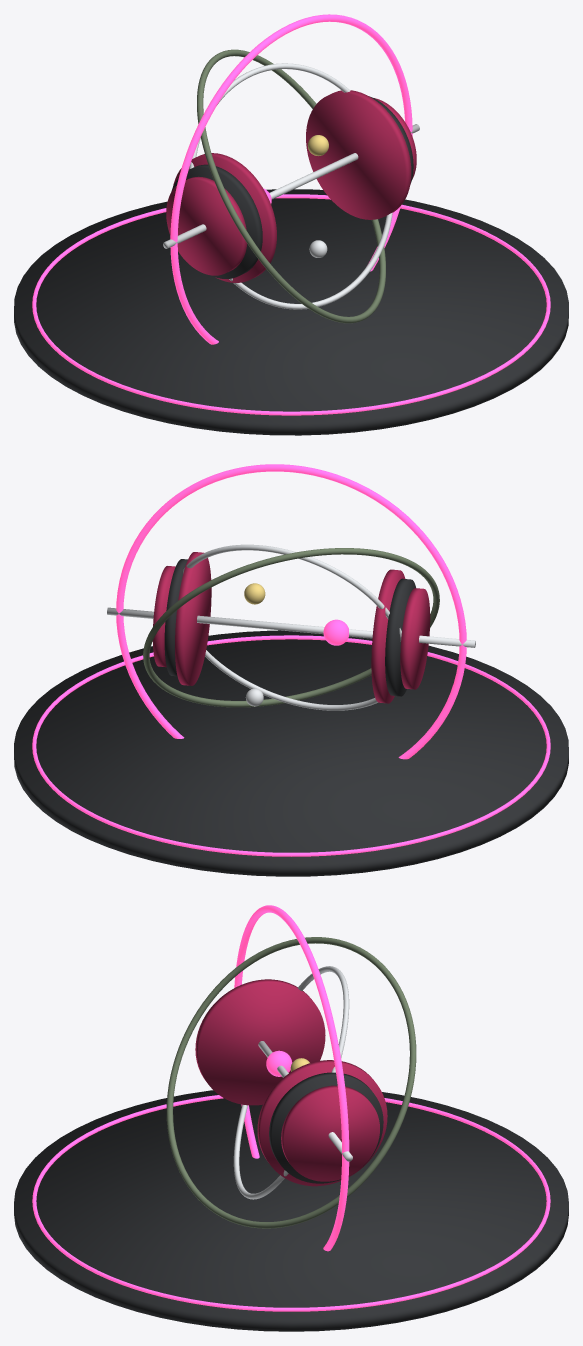
File: hip_thrust_3d_telemetry.glb
The picture shows the model from 3 angles, top to bottom: view 1: azimuth 30°, elevation 25°; view 2: azimuth 150°, elevation 25°; view 3: azimuth 270°, elevation 25°; orthographic projection.
Visible parts, largest first — view 1: Telemetry_Platform, Calibrated_Plate_4, Calibrated_Plate_1, Platform_Caliper_Ring, Vector01_Horizontal_HipThrust_Ring, Vector02_Axial_Lengthened_Ring, Calibrated_Plate_3, Vector03_ScapularPlane_30Deg_Ring, Calibrated_Plate_2, Olympic_Barbell_20kg; view 2: Telemetry_Platform, Vector01_Horizontal_HipThrust_Ring, Platform_Caliper_Ring, Vector02_Axial_Lengthened_Ring, Calibrated_Plate_4, Vector03_ScapularPlane_30Deg_Ring, Calibrated_Plate_1, Olympic_Barbell_20kg, Calibrated_Plate_3, Calibrated_Plate_2, Calibrated_Plate_5, Calibrated_Plate_6 (+1 smaller); view 3: Telemetry_Platform, Calibrated_Plate_3, Calibrated_Plate_6, Vector02_Axial_Lengthened_Ring, Platform_Caliper_Ring, Vector01_Horizontal_HipThrust_Ring, Calibrated_Plate_4, Calibrated_Plate_5, Vector03_ScapularPlane_30Deg_Ring.
Boxes of the visible parts, box(x1,y1,x2,y2) form: Telemetry_Platform: box(14, 189, 568, 435); Calibrated_Plate_4: box(306, 90, 411, 219); Calibrated_Plate_1: box(166, 176, 247, 275); Platform_Caliper_Ring: box(32, 194, 550, 415); Vector01_Horizontal_HipThrust_Ring: box(170, 14, 412, 344); Vector02_Axial_Lengthened_Ring: box(197, 49, 385, 323); Calibrated_Plate_3: box(173, 153, 276, 282); Vector03_ScapularPlane_30Deg_Ring: box(189, 63, 392, 309); Calibrated_Plate_2: box(171, 164, 262, 278); Olympic_Barbell_20kg: box(163, 124, 419, 248); Telemetry_Platform: box(14, 630, 568, 876); Vector01_Horizontal_HipThrust_Ring: box(116, 464, 466, 759); Platform_Caliper_Ring: box(32, 635, 550, 856); Vector02_Axial_Lengthened_Ring: box(143, 548, 439, 707); Calibrated_Plate_4: box(175, 552, 211, 685); Vector03_ScapularPlane_30Deg_Ring: box(183, 544, 401, 710); Calibrated_Plate_1: box(400, 588, 430, 689); Olympic_Barbell_20kg: box(107, 607, 475, 647); Calibrated_Plate_3: box(371, 569, 405, 703); Calibrated_Plate_2: box(385, 578, 415, 696); Calibrated_Plate_5: box(164, 559, 187, 676); Calibrated_Plate_6: box(152, 566, 175, 667); Telemetry_Platform: box(14, 1090, 568, 1331); Calibrated_Plate_3: box(195, 979, 325, 1105); Calibrated_Plate_6: box(281, 1085, 379, 1181); Vector02_Axial_Lengthened_Ring: box(166, 937, 416, 1228); Platform_Caliper_Ring: box(32, 1095, 550, 1311); Vector01_Horizontal_HipThrust_Ring: box(234, 905, 349, 1251); Calibrated_Plate_4: box(257, 1060, 387, 1186); Calibrated_Plate_5: box(269, 1072, 383, 1183); Vector03_ScapularPlane_30Deg_Ring: box(233, 966, 349, 1199).
Bounding box in the file's own units: 6.8 × 4.39 × 6.8.
